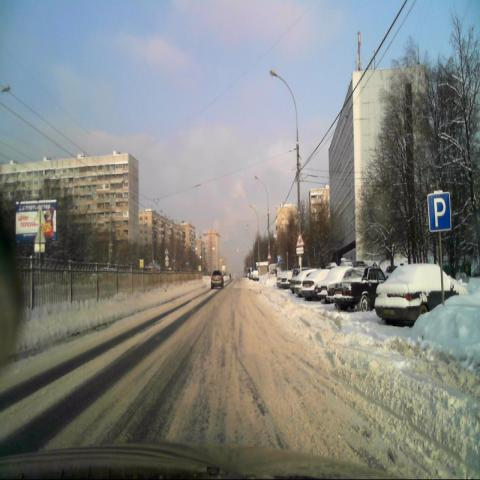6_4: (428, 192, 452, 234)
